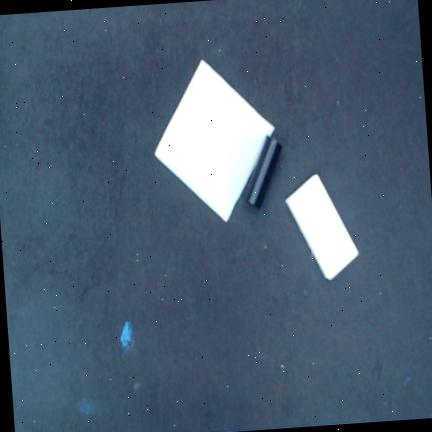Cilindro: (244, 135, 284, 210)
Paralelepipedo: (285, 174, 360, 281)
Piramide: (153, 59, 275, 221)
